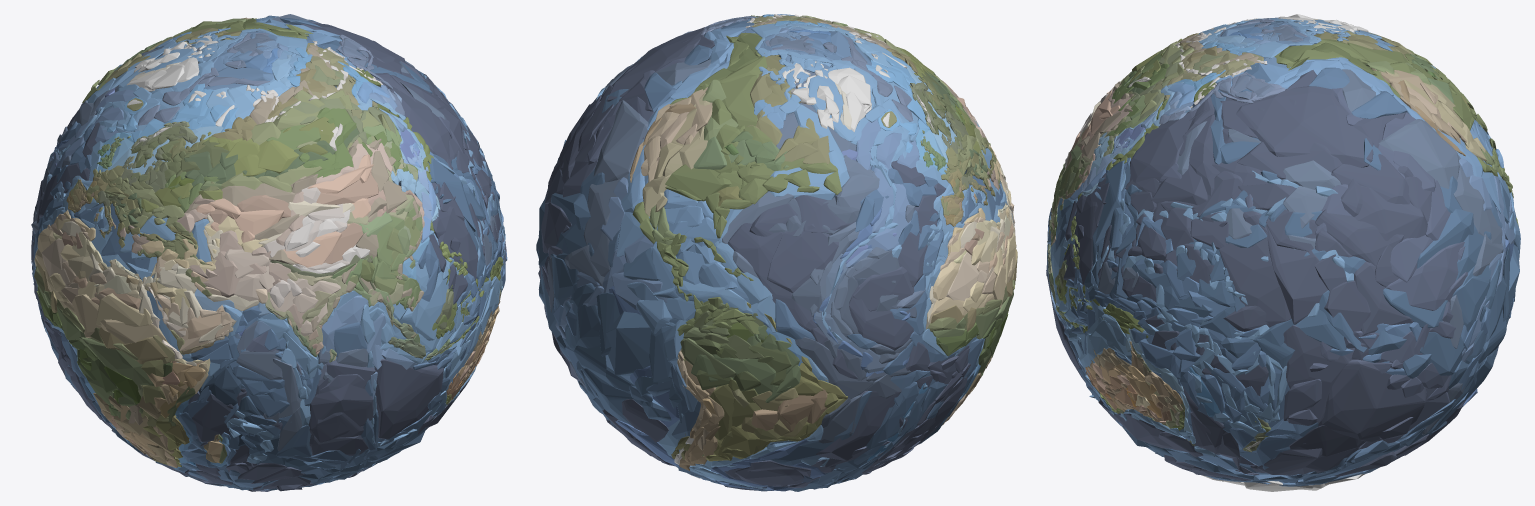
File: earth.glb
3 renders of one model, left to right at view 1: azimuth 30°, elevation 25°; view 2: azimuth 150°, elevation 25°; view 3: azimuth 270°, elevation 25°, orthographic.
Visible parts, largest first — view 1: brush_UnlitHull_g0_b3_3, brush_UnlitHull_g0_b22_22, brush_UnlitHull_g0_b7_7, brush_UnlitHull_g0_b8_8, brush_UnlitHull_g0_b13_13, brush_UnlitHull_g0_b21_21, brush_UnlitHull_g0_b4_4, brush_UnlitHull_g0_b23_23, brush_UnlitHull_g0_b15_15, brush_UnlitHull_g0_b18_18, brush_UnlitHull_g0_b6_6, brush_UnlitHull_g0_b5_5 (+12 smaller); view 2: brush_UnlitHull_g0_b19_19, brush_UnlitHull_g0_b16_16, brush_UnlitHull_g0_b17_17, brush_UnlitHull_g0_b12_12, brush_UnlitHull_g0_b11_11, brush_UnlitHull_g0_b13_13, brush_UnlitHull_g0_b15_15, brush_UnlitHull_g0_b7_7, brush_UnlitHull_g0_b18_18, brush_UnlitHull_g0_b21_21, brush_UnlitHull_g0_b22_22, brush_UnlitHull_g0_b23_23 (+11 smaller); view 3: brush_UnlitHull_g0_b21_21, brush_UnlitHull_g0_b19_19, brush_UnlitHull_g0_b22_22, brush_UnlitHull_g0_b20_20, brush_UnlitHull_g0_b25_25, brush_UnlitHull_g0_b24_24, brush_UnlitHull_g0_b13_13, brush_UnlitHull_g0_b11_11, brush_UnlitHull_g0_b14_14, brush_UnlitHull_g0_b23_23, brush_UnlitHull_g0_b5_5, brush_UnlitHull_g0_b3_3 (+8 smaller).
Part boxes in pixels (x1,y1,x2,y2): brush_UnlitHull_g0_b3_3: (117,44,413,342); brush_UnlitHull_g0_b22_22: (178,21,485,489); brush_UnlitHull_g0_b7_7: (34,216,269,463); brush_UnlitHull_g0_b8_8: (41,200,354,418); brush_UnlitHull_g0_b13_13: (82,18,311,174); brush_UnlitHull_g0_b21_21: (313,23,507,285); brush_UnlitHull_g0_b4_4: (224,141,470,358); brush_UnlitHull_g0_b23_23: (42,304,393,491); brush_UnlitHull_g0_b15_15: (34,27,400,469); brush_UnlitHull_g0_b18_18: (79,261,497,486); brush_UnlitHull_g0_b6_6: (48,85,440,356); brush_UnlitHull_g0_b5_5: (253,40,424,311); brush_UnlitHull_g0_b19_19: (536,26,927,491); brush_UnlitHull_g0_b16_16: (674,74,949,466); brush_UnlitHull_g0_b17_17: (724,160,1002,488); brush_UnlitHull_g0_b12_12: (632,79,847,454); brush_UnlitHull_g0_b11_11: (609,87,838,489); brush_UnlitHull_g0_b13_13: (653,20,956,238); brush_UnlitHull_g0_b15_15: (754,48,1013,424); brush_UnlitHull_g0_b7_7: (927,157,1017,410); brush_UnlitHull_g0_b18_18: (702,391,925,491); brush_UnlitHull_g0_b21_21: (545,20,780,361); brush_UnlitHull_g0_b22_22: (538,36,939,406); brush_UnlitHull_g0_b23_23: (562,348,970,490); brush_UnlitHull_g0_b21_21: (1084,63,1431,452); brush_UnlitHull_g0_b19_19: (1113,57,1520,471); brush_UnlitHull_g0_b22_22: (1046,70,1468,434); brush_UnlitHull_g0_b20_20: (1076,170,1490,459); brush_UnlitHull_g0_b25_25: (1047,20,1465,491); brush_UnlitHull_g0_b24_24: (1098,312,1511,486); brush_UnlitHull_g0_b13_13: (1196,18,1495,165); brush_UnlitHull_g0_b11_11: (1095,68,1513,450); brush_UnlitHull_g0_b14_14: (1129,17,1314,148); brush_UnlitHull_g0_b23_23: (1047,208,1498,484); brush_UnlitHull_g0_b5_5: (1050,31,1267,245); brush_UnlitHull_g0_b3_3: (1048,33,1260,266).
Size of the model in its own units: 2.72 by 2.68 by 2.68.
